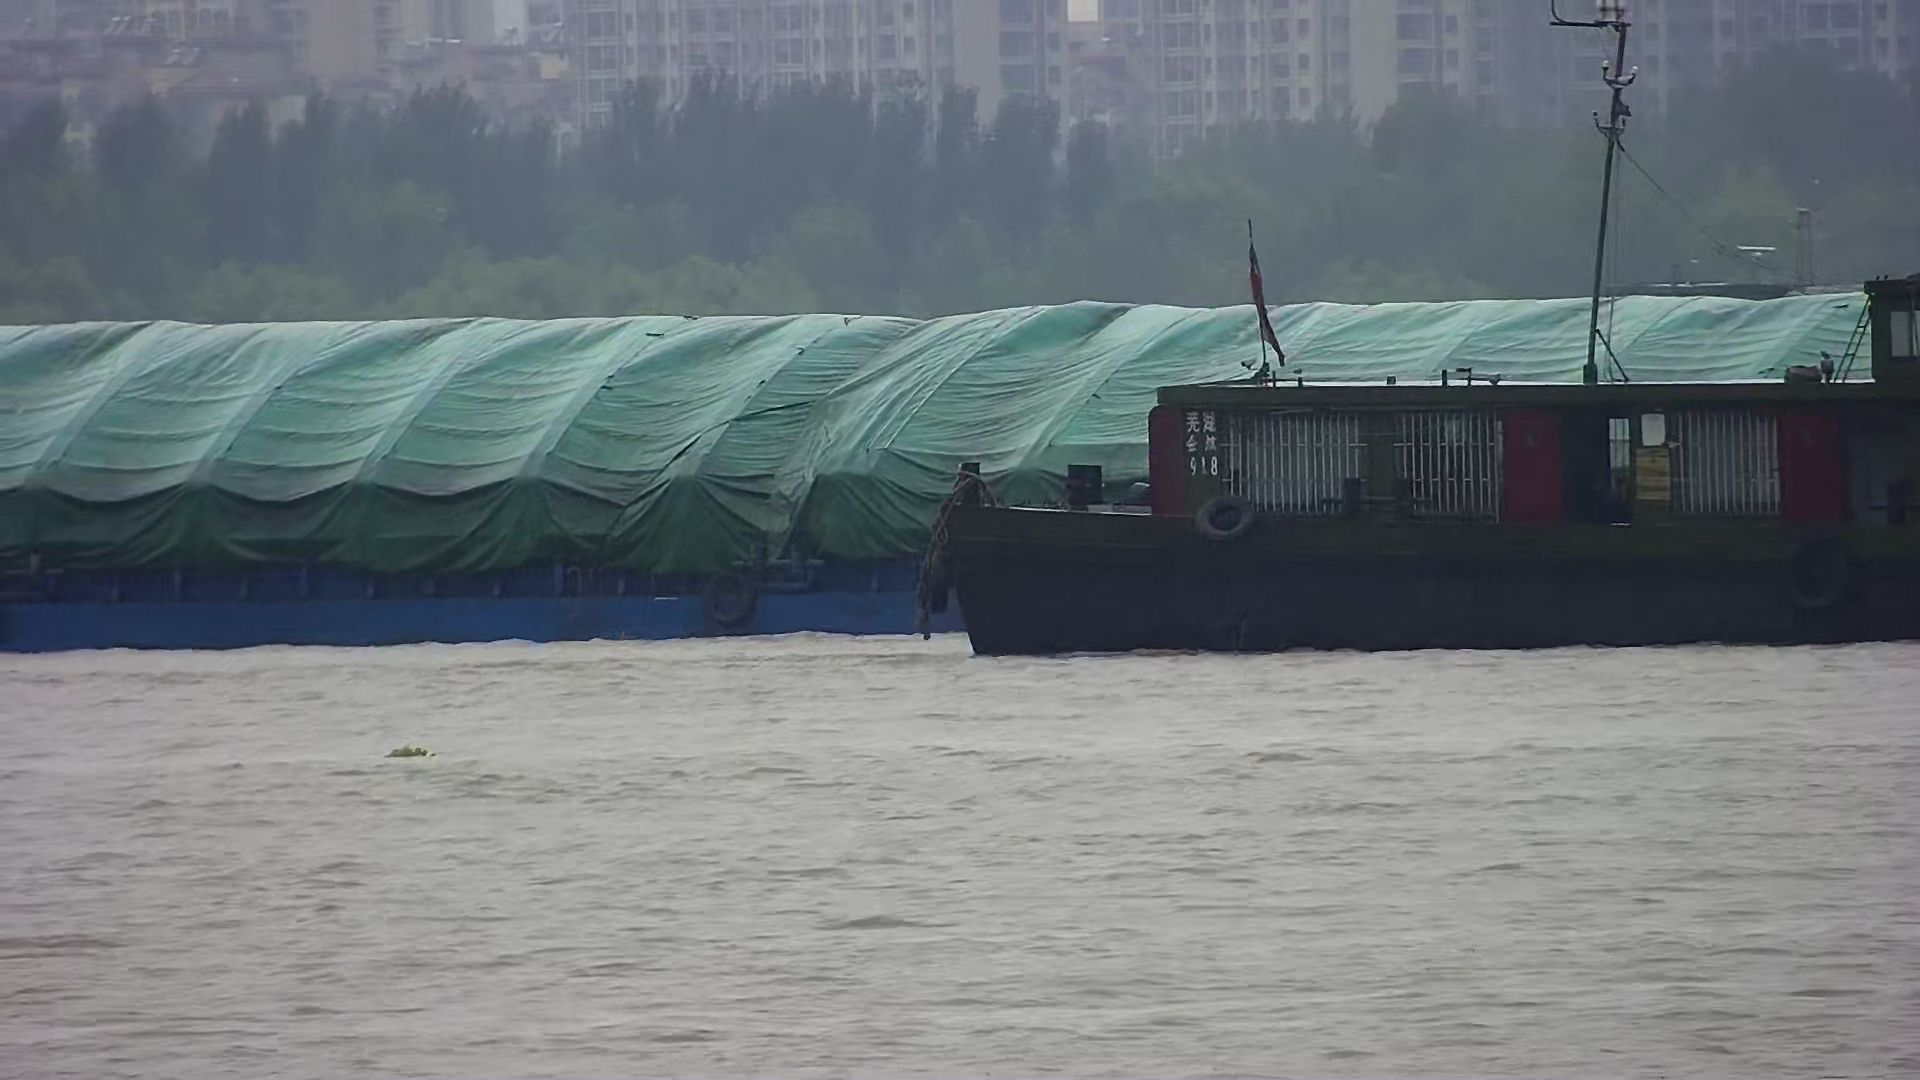ship: (1, 290, 1920, 655), (920, 361, 1920, 655)
